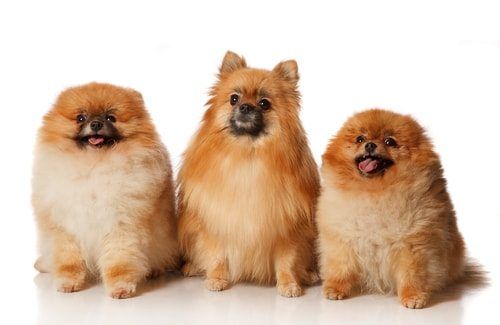pomeranian: (177, 39, 314, 307), (28, 76, 174, 302), (321, 103, 479, 304)
